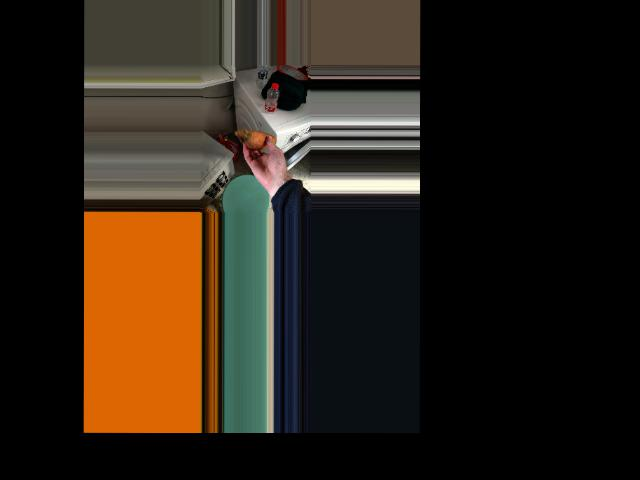sweet_potato: (242, 129, 274, 147)
